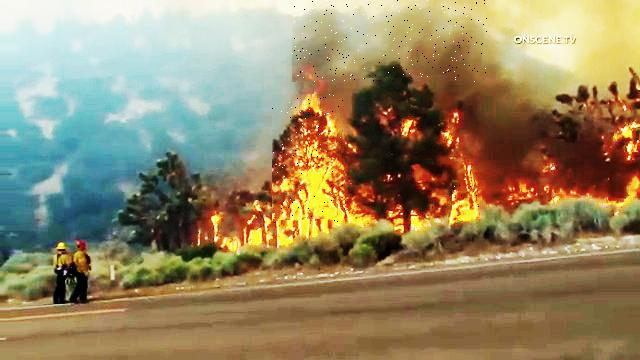fire: (272, 95, 345, 224), (452, 181, 486, 215)
smoke: (292, 0, 488, 82)
